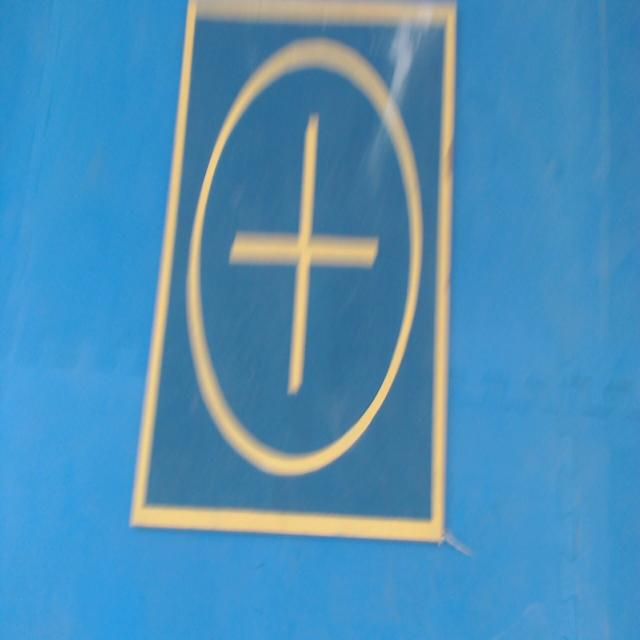base_pouso: (128, 0, 458, 544)
